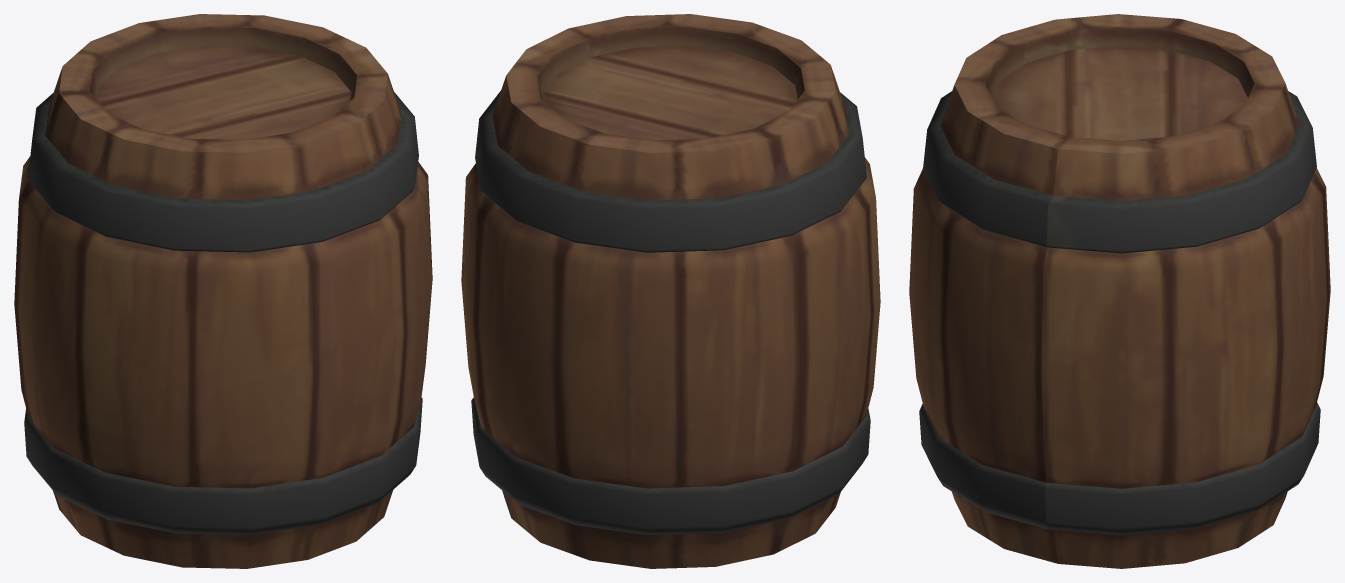
The model's file is barrel.FBX.
3 renders of one model, left to right at view 1: azimuth 30°, elevation 25°; view 2: azimuth 150°, elevation 25°; view 3: azimuth 270°, elevation 25°, orthographic.
Parts seen in each view (by area): view 1: barrel; view 2: barrel; view 3: barrel.
Part boxes in pixels (box(x1,y1,x2,y2)): barrel: box(14, 14, 432, 568); barrel: box(461, 14, 880, 568); barrel: box(909, 14, 1330, 568).
Size of the model in its own units: 133 by 144 by 133.
Materials: 1 (1 with a texture image).
